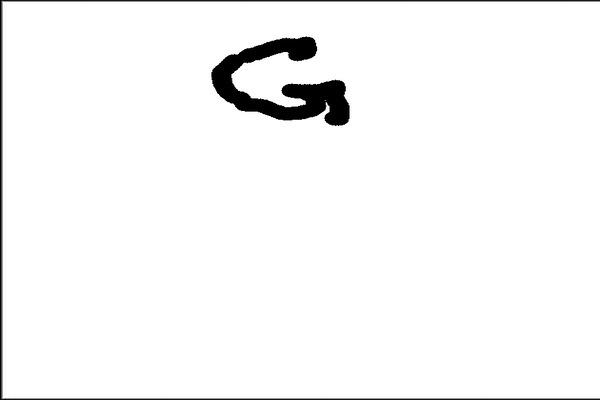G: (205, 32, 356, 136)
